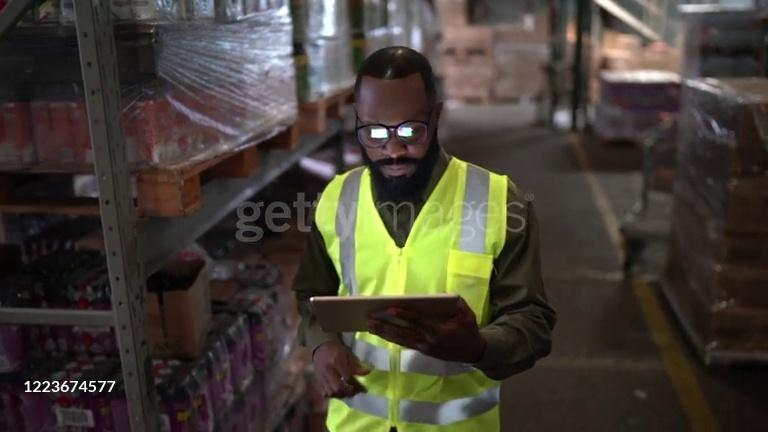person: (292, 39, 559, 432)
